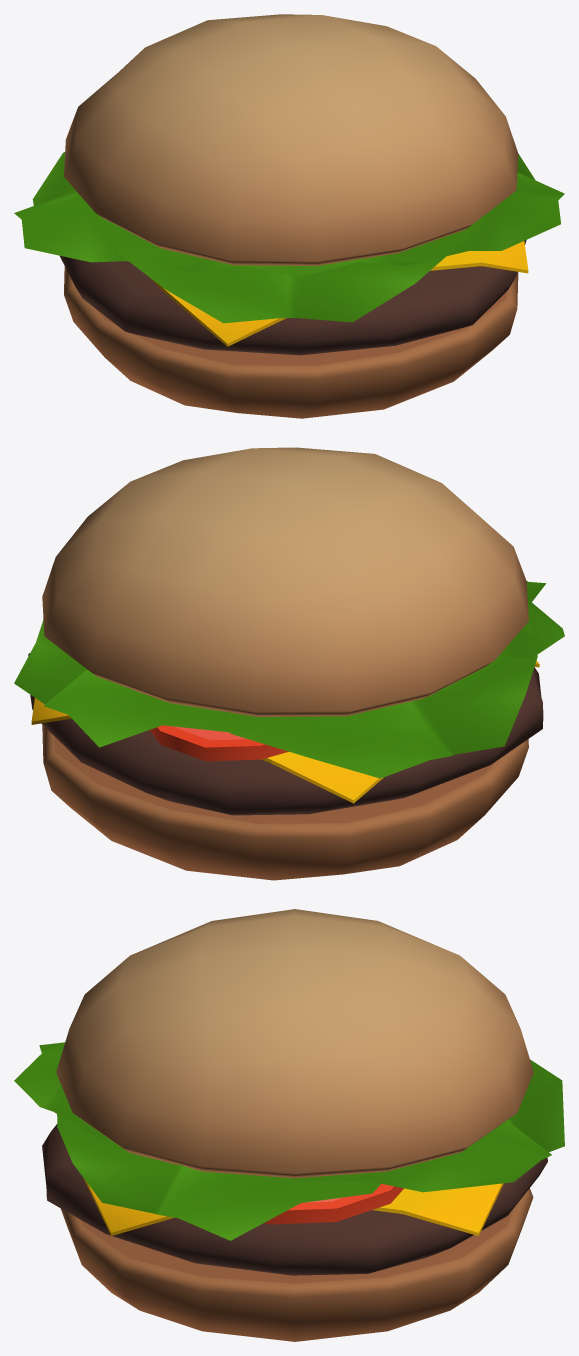
File: Product Burger.fbx
The picture shows the model from 3 angles, top to bottom: view 1: azimuth 30°, elevation 25°; view 2: azimuth 150°, elevation 25°; view 3: azimuth 270°, elevation 25°; orthographic projection. The views are drawn at different scales.
Parts seen in each view (by area): view 1: Product_Burger; view 2: Product_Burger; view 3: Product_Burger.
Part boxes in pixels (bbox=[...]): Product_Burger: bbox=[14, 14, 564, 418]; Product_Burger: bbox=[14, 447, 564, 880]; Product_Burger: bbox=[14, 909, 564, 1341].
Bounding box in the file's own units: 148 × 93.61 × 147.
